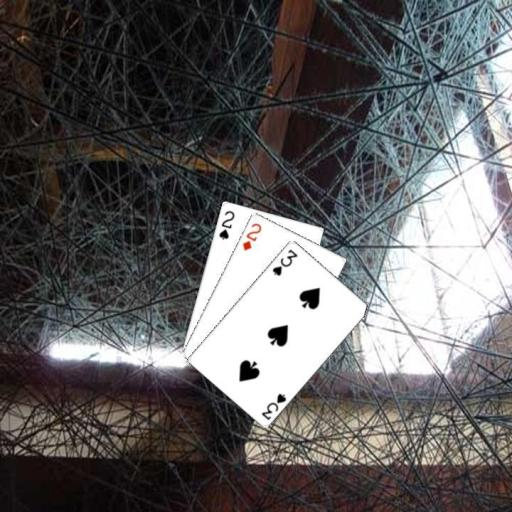2D: (240, 220, 263, 252)
2S: (216, 207, 236, 241)
3S: (269, 246, 299, 277), (258, 390, 288, 421)
